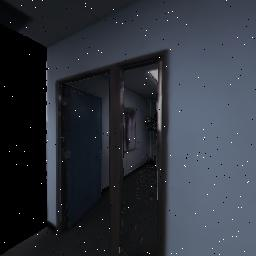door: (54, 82, 109, 222)
door-frame: (53, 45, 177, 256)
